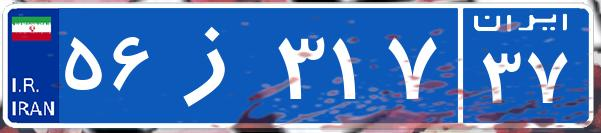1: (330, 28, 385, 110)
3: (273, 28, 330, 110), (475, 38, 525, 113)
5: (57, 26, 110, 107)
6: (110, 28, 158, 105)
7: (385, 28, 445, 110), (525, 38, 570, 115)
ز: (158, 15, 273, 115)
